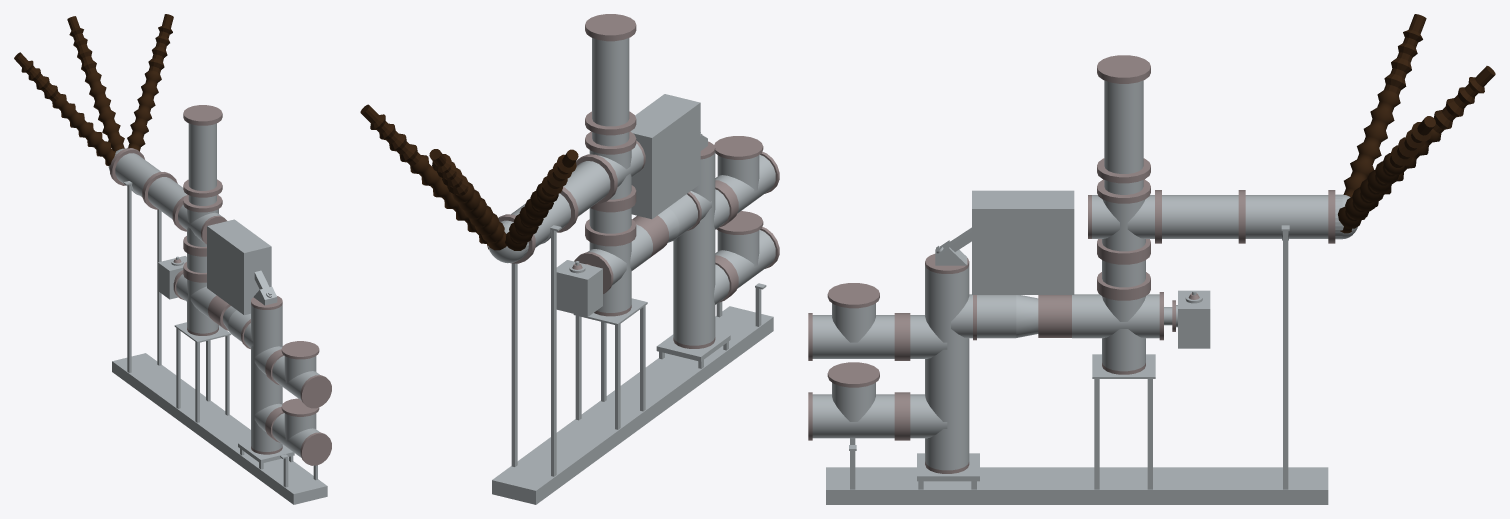
Rendered from 13. 最后的设备.FBX.
3 renders of one model, left to right at view 1: azimuth 30°, elevation 25°; view 2: azimuth 150°, elevation 25°; view 3: azimuth 270°, elevation 25°, orthographic. The views are drawn at different scales.
Visible parts, largest first — view 1: Obj3d66-1032738-9779-475, Obj3d66-1032738-9792-998, Obj3d66-1032738-9784-194, Obj3d66-1032738-9782-232, Obj3d66-1032738-9768-273, Obj3d66-1032738-9771-193, Obj3d66-1032738-9773-260, Obj3d66-1032738-9795-105, Obj3d66-1032738-9796-91, Obj3d66-1032738-9809-945, Obj3d66-1032738-9794-194, Obj3d66-1032738-9797-309 (+16 smaller); view 2: Obj3d66-1032738-9779-475, Obj3d66-1032738-9792-998, Obj3d66-1032738-9784-194, Obj3d66-1032738-9782-232, Obj3d66-1032738-9771-193, Obj3d66-1032738-9768-273, Obj3d66-1032738-9773-260, Obj3d66-1032738-9761-411, Obj3d66-1032738-9795-105, Obj3d66-1032738-9796-91, Obj3d66-1032738-9809-945, Obj3d66-1032738-9810-134 (+23 smaller); view 3: Obj3d66-1032738-9779-475, Obj3d66-1032738-9784-194, Obj3d66-1032738-9768-273, Obj3d66-1032738-9792-998, Obj3d66-1032738-9782-232, Obj3d66-1032738-9773-260, Obj3d66-1032738-9796-91, Obj3d66-1032738-9771-193, Obj3d66-1032738-9795-105, Obj3d66-1032738-9788-876, Obj3d66-1032738-9774-553, Obj3d66-1032738-9761-411 (+13 smaller).
Boxes of the visible parts, bbox=[...] form: Obj3d66-1032738-9779-475: bbox=[112, 353, 327, 504]; Obj3d66-1032738-9792-998: bbox=[14, 14, 173, 165]; Obj3d66-1032738-9784-194: bbox=[207, 219, 271, 315]; Obj3d66-1032738-9782-232: bbox=[251, 304, 282, 451]; Obj3d66-1032738-9768-273: bbox=[115, 153, 222, 242]; Obj3d66-1032738-9771-193: bbox=[188, 123, 216, 205]; Obj3d66-1032738-9773-260: bbox=[187, 209, 218, 333]; Obj3d66-1032738-9795-105: bbox=[254, 346, 319, 400]; Obj3d66-1032738-9796-91: bbox=[254, 403, 319, 457]; Obj3d66-1032738-9809-945: bbox=[127, 184, 131, 372]; Obj3d66-1032738-9794-194: bbox=[300, 375, 331, 408]; Obj3d66-1032738-9797-309: bbox=[300, 432, 331, 465]; Obj3d66-1032738-9779-475: bbox=[492, 306, 773, 504]; Obj3d66-1032738-9792-998: bbox=[360, 104, 578, 250]; Obj3d66-1032738-9784-194: bbox=[630, 94, 700, 219]; Obj3d66-1032738-9782-232: bbox=[673, 151, 715, 345]; Obj3d66-1032738-9771-193: bbox=[592, 38, 629, 146]; Obj3d66-1032738-9768-273: bbox=[511, 143, 643, 247]; Obj3d66-1032738-9773-260: bbox=[589, 150, 631, 312]; Obj3d66-1032738-9761-411: bbox=[556, 260, 602, 316]; Obj3d66-1032738-9795-105: bbox=[714, 154, 775, 229]; Obj3d66-1032738-9796-91: bbox=[714, 230, 775, 304]; Obj3d66-1032738-9809-945: bbox=[551, 230, 556, 476]; Obj3d66-1032738-9810-134: bbox=[511, 263, 517, 466]; Obj3d66-1032738-9779-475: bbox=[826, 467, 1328, 504]; Obj3d66-1032738-9784-194: bbox=[972, 190, 1074, 294]; Obj3d66-1032738-9768-273: bbox=[1092, 195, 1328, 238]; Obj3d66-1032738-9792-998: bbox=[1338, 14, 1495, 233]; Obj3d66-1032738-9782-232: bbox=[925, 265, 969, 470]; Obj3d66-1032738-9773-260: bbox=[1102, 200, 1145, 371]; Obj3d66-1032738-9796-91: bbox=[812, 394, 947, 438]; Obj3d66-1032738-9771-193: bbox=[1104, 80, 1143, 194]; Obj3d66-1032738-9795-105: bbox=[812, 315, 947, 358]; Obj3d66-1032738-9788-876: bbox=[951, 294, 1038, 338]; Obj3d66-1032738-9774-553: bbox=[1072, 294, 1159, 338]; Obj3d66-1032738-9761-411: bbox=[1178, 290, 1210, 348].
Size of the model in its own units: 2363 by 4315 by 6278.
